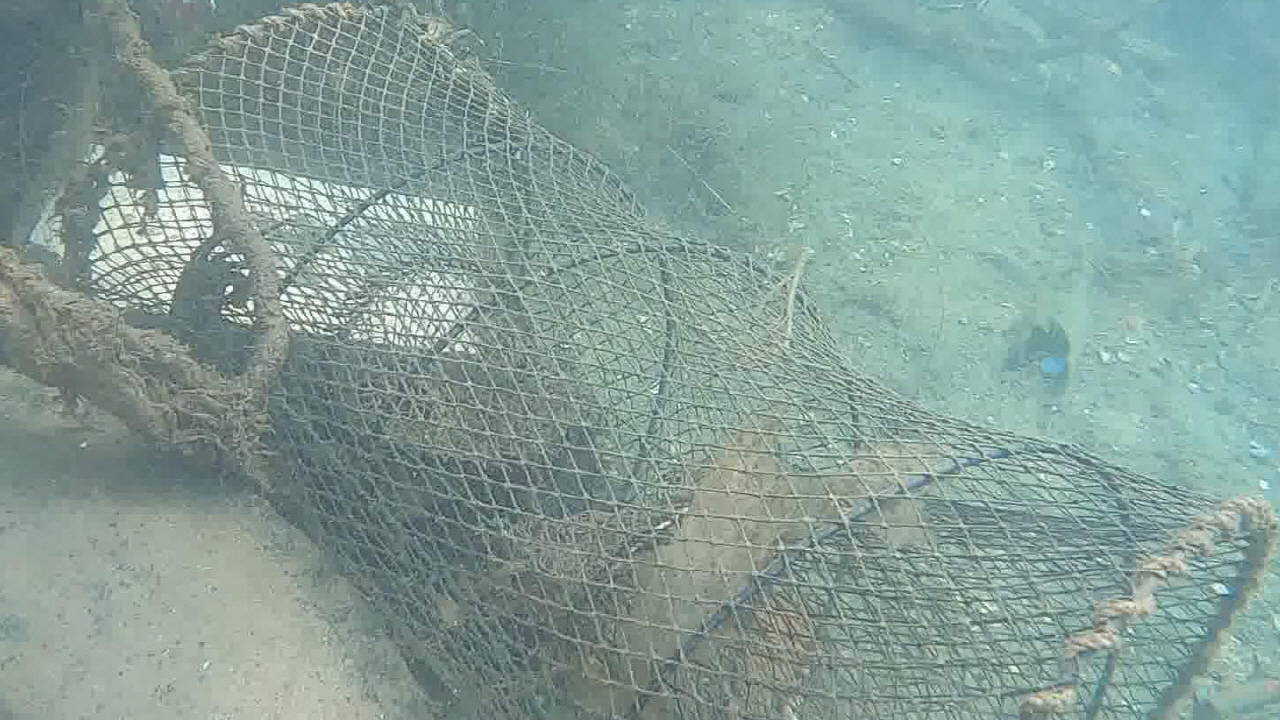spring fish trap: (57, 0, 1273, 718)
